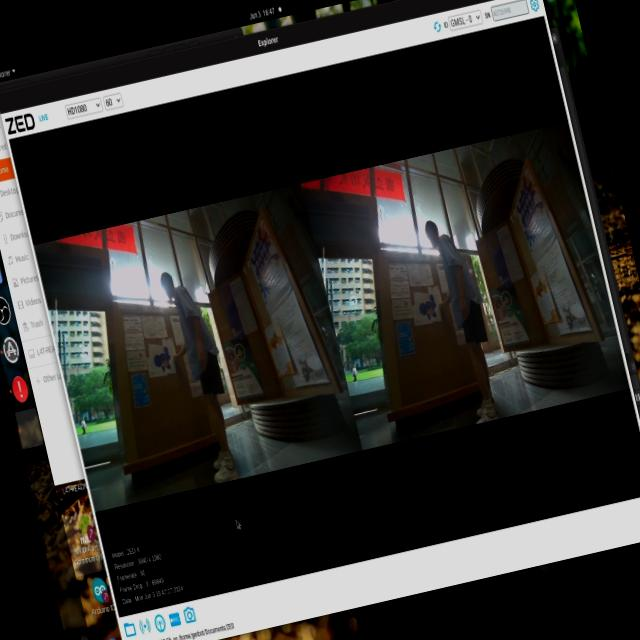blue: (148, 342, 179, 388), (408, 288, 442, 324)
